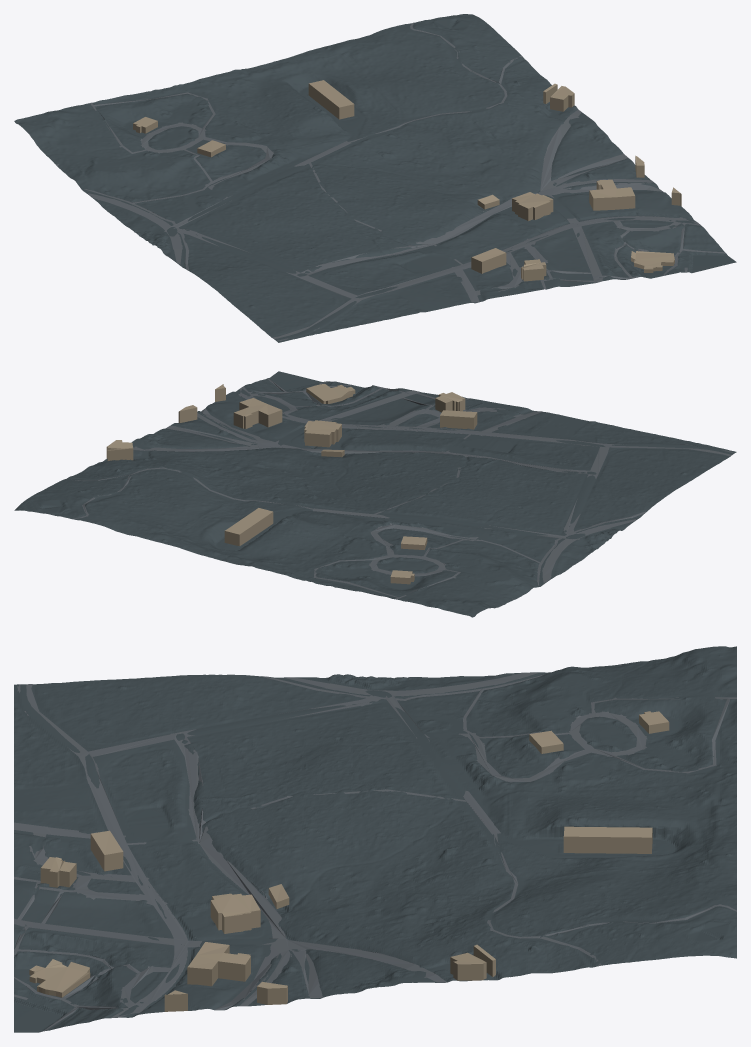
Rendered from epsg26910-1422-10894.lod0.glb.
3 views of the same model, one above another, from view 1: azimuth 30°, elevation 25°; view 2: azimuth 150°, elevation 25°; view 3: azimuth 270°, elevation 25° (orthographic). The views are drawn at different scales.
Parts seen in each view (by area): view 1: epsg26910-1422-10894-lod0; view 2: epsg26910-1422-10894-lod0; view 3: epsg26910-1422-10894-lod0.
Part boxes in pixels (x1,y1,x2,y2): epsg26910-1422-10894-lod0: (14,14,736,342); epsg26910-1422-10894-lod0: (14,371,736,617); epsg26910-1422-10894-lod0: (14,646,736,1032).
Bounding box in the file's own units: 384 × 49.09 × 384.
